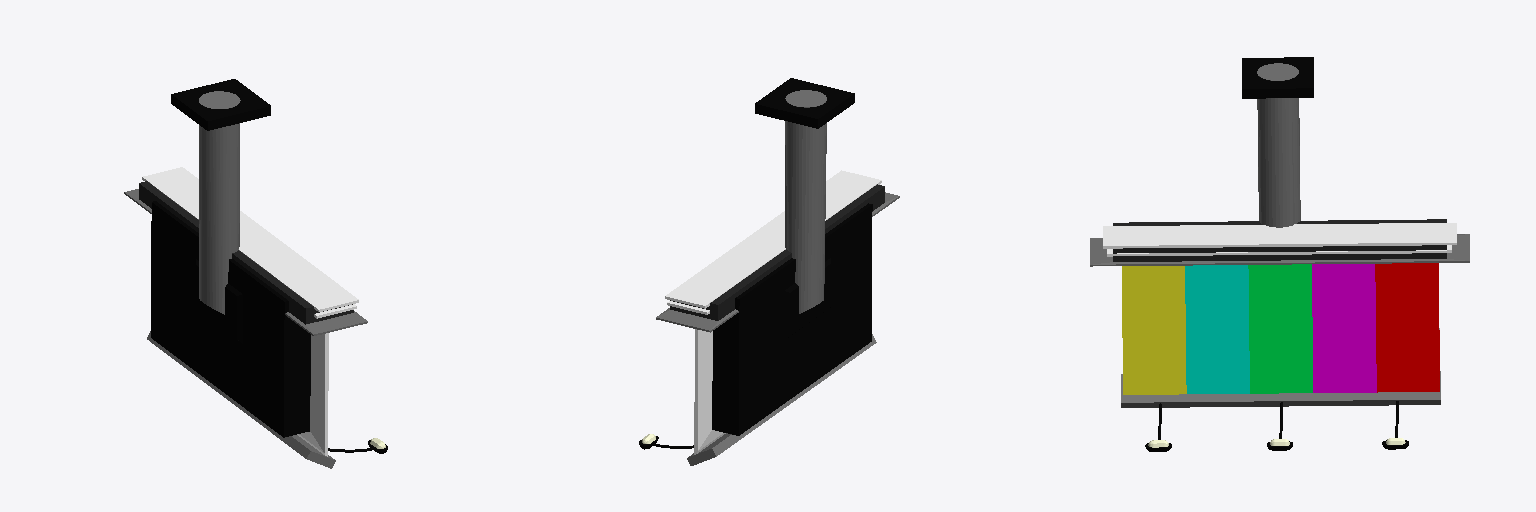
File: outdo.obj
The picture shows the model from 3 angles: view 1: azimuth 30°, elevation 25°; view 2: azimuth 150°, elevation 25°; view 3: azimuth 270°, elevation 25°; orthographic projection.
Parts seen in each view (by area): view 1: Cube.7; view 2: Cube.7; view 3: Cube.7.
Part boxes in pixels (x1,y1,x2,y2): Cube.7: (124,79,387,468); Cube.7: (639,78,899,465); Cube.7: (1090,57,1469,451).
Size of the model in its own units: 170 by 398 by 412.